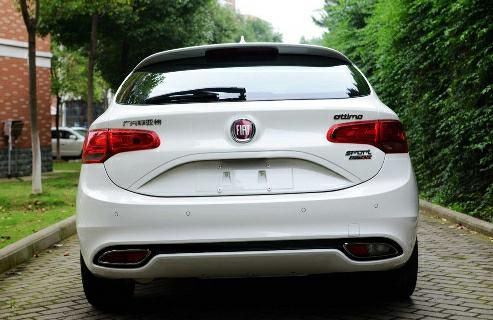菲亚特-500: (66, 36, 427, 312)
